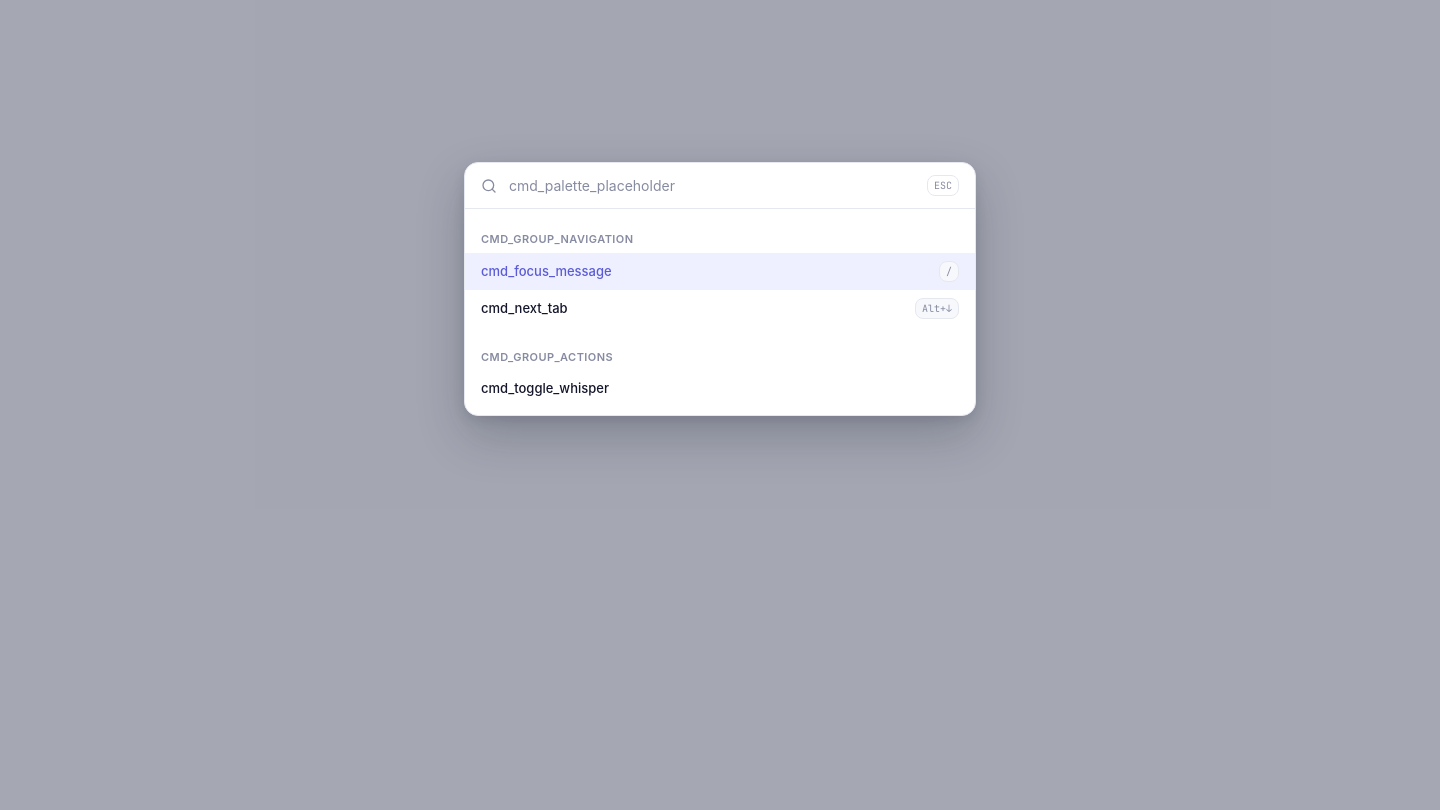
Test: CommandPalette › filters commands by keywords
This screenshot has width=1440, height=810.
Type "type" into the field with placeholder "cmd_palette_placeholder". click: (712, 186)
box: [509,175,915,196]
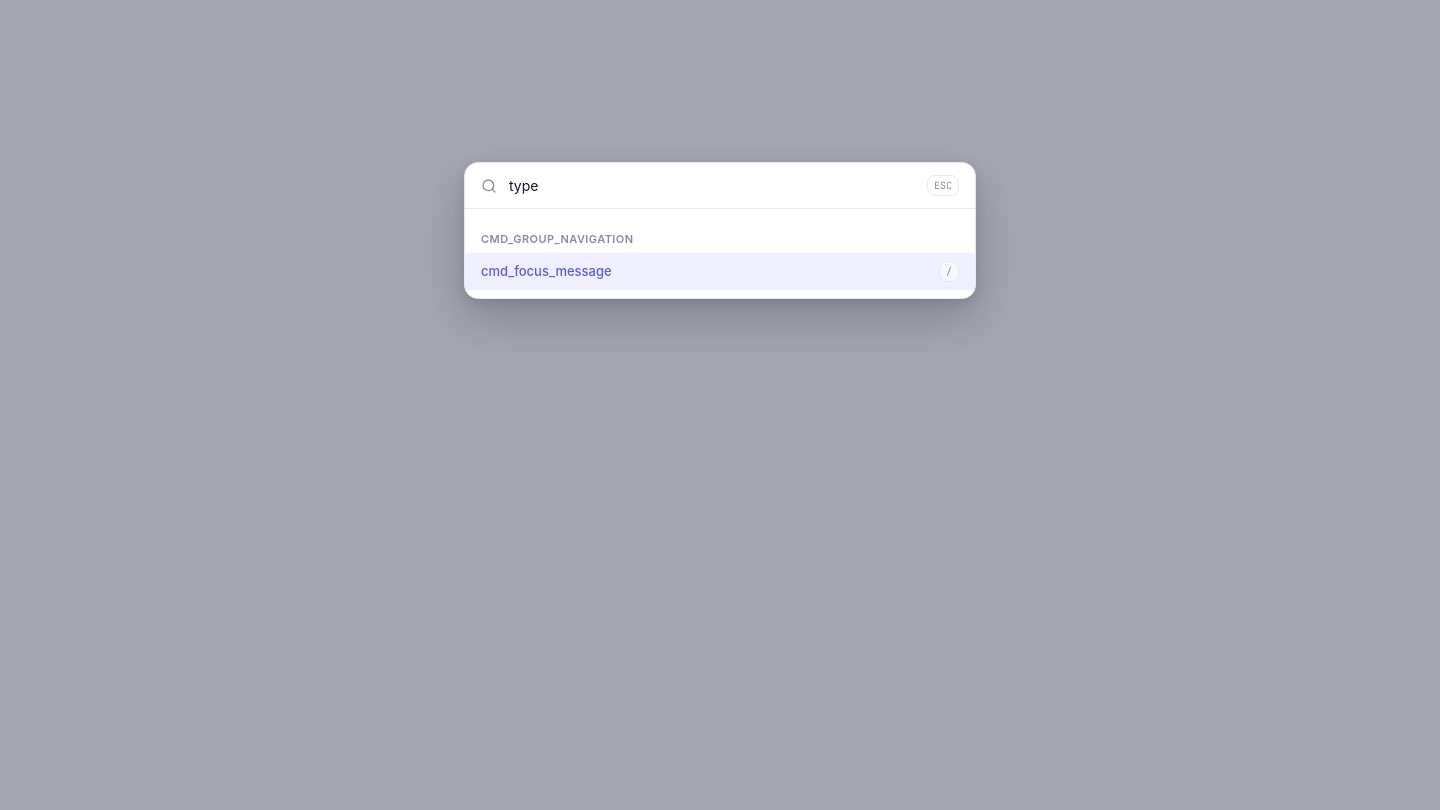
expect the text "cmd_focus_message" is shown: met, box [481,262,612,281]
expect the button "cmd_next_tab" is gone: met
